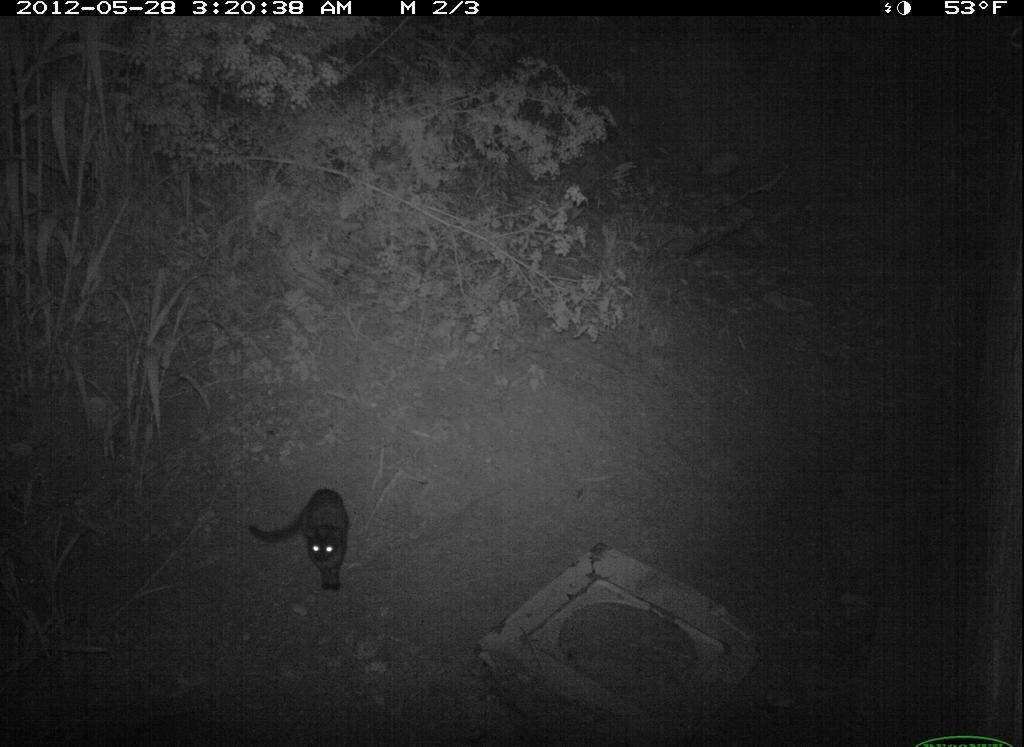cat: (256, 483, 364, 606)
